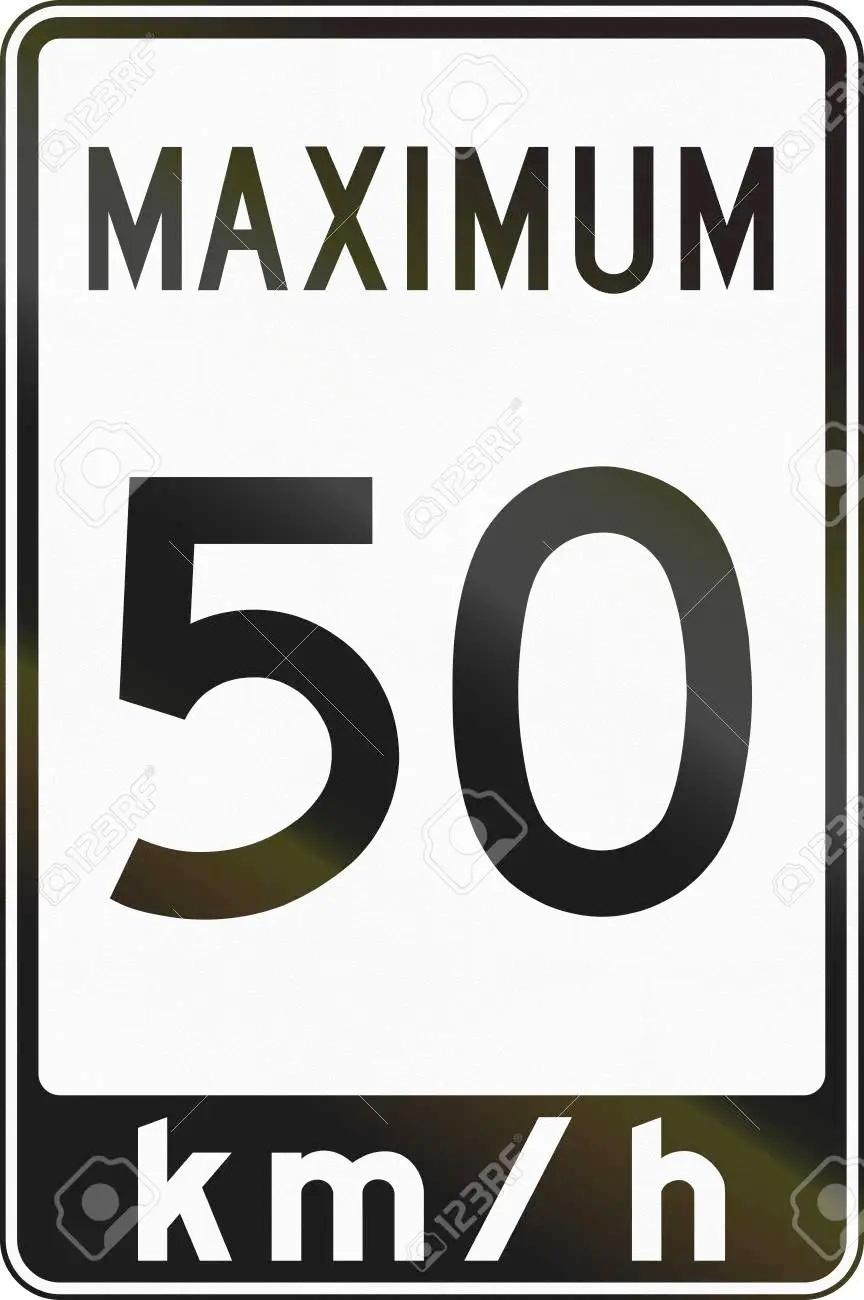speed limit sign: (4, 13, 858, 1300)
